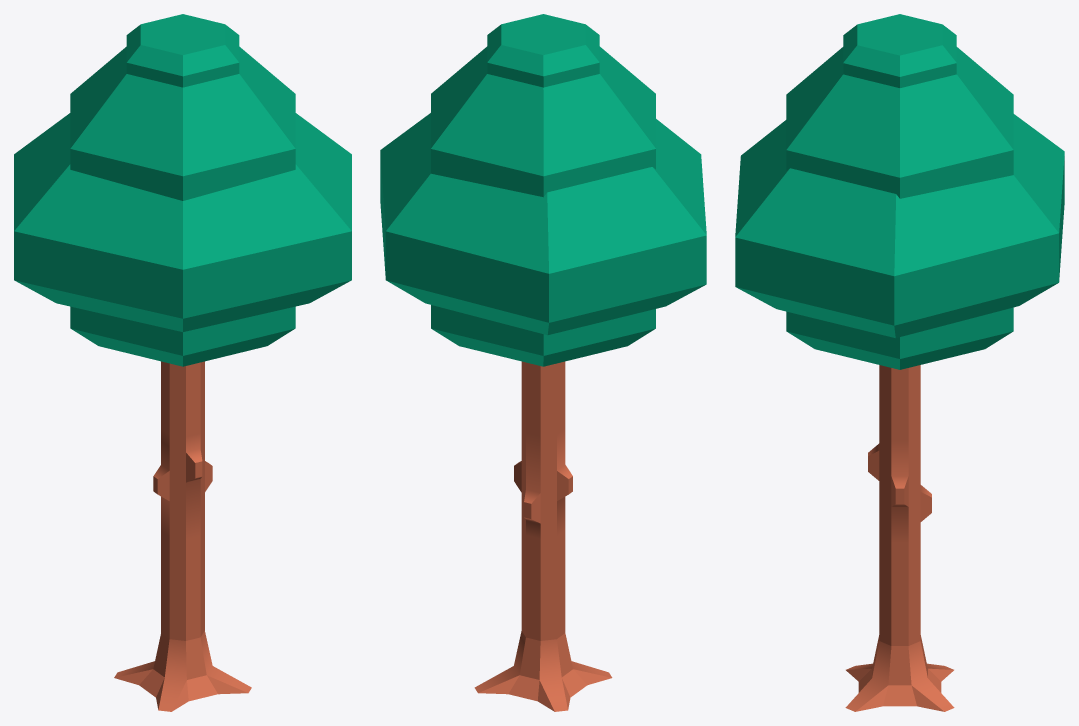
Rendered from leaftreebig.fbx.
The picture shows the model from 3 angles, left to right: view 1: azimuth 30°, elevation 25°; view 2: azimuth 150°, elevation 25°; view 3: azimuth 270°, elevation 25°; orthographic projection.
Parts seen in each view (by area): view 1: leafs_cone (×3), trunk (×2), leafs_round, trunk_baseDetailed, trunk_detailedA; view 2: leafs_cone (×3), trunk (×2), leafs_round, trunk_baseDetailed, trunk_detailedA; view 3: leafs_cone (×3), trunk (×2), leafs_round, trunk_baseDetailed, trunk_detailedA.
Part boxes in pixels (x1,y1,x2,y2): leafs_cone (×3): (14, 46, 351, 366); trunk (×2): (161, 361, 204, 640); leafs_round: (126, 14, 239, 87); trunk_baseDetailed: (114, 631, 251, 711); trunk_detailedA: (153, 426, 212, 538); leafs_cone (×3): (380, 46, 706, 366); trunk (×2): (521, 361, 565, 640); leafs_round: (487, 14, 599, 87); trunk_baseDetailed: (474, 631, 612, 711); trunk_detailedA: (514, 427, 572, 538); leafs_cone (×3): (735, 47, 1064, 369); trunk (×2): (879, 365, 920, 645); leafs_round: (843, 14, 956, 87); trunk_baseDetailed: (845, 635, 954, 711); trunk_detailedA: (868, 435, 931, 542).
Bounding box in the file's own units: 34.06 × 63.5 × 29.
